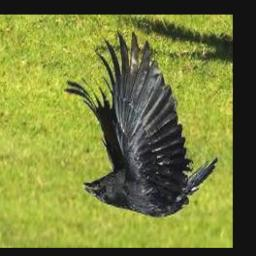Crow: (64, 31, 218, 218)
